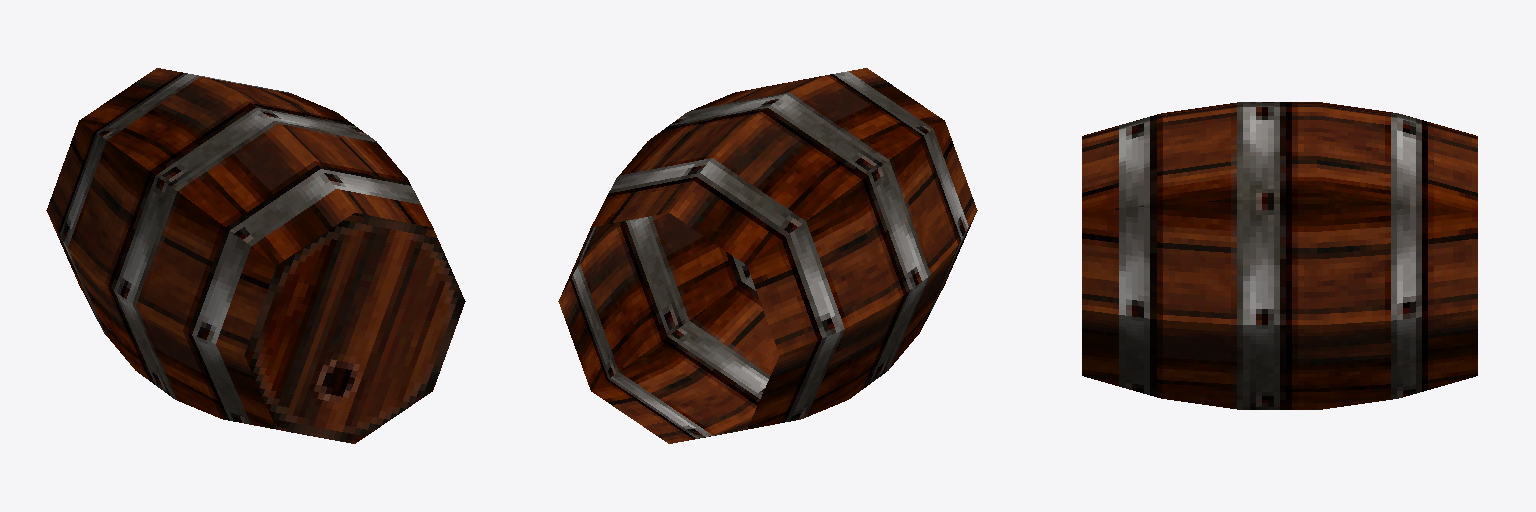
The picture shows the model from 3 angles: view 1: azimuth 30°, elevation 25°; view 2: azimuth 150°, elevation 25°; view 3: azimuth 270°, elevation 25°; orthographic projection.
Size of the model in its own units: 4.5 by 4.5 by 5.43.
2 materials, 2 textured.